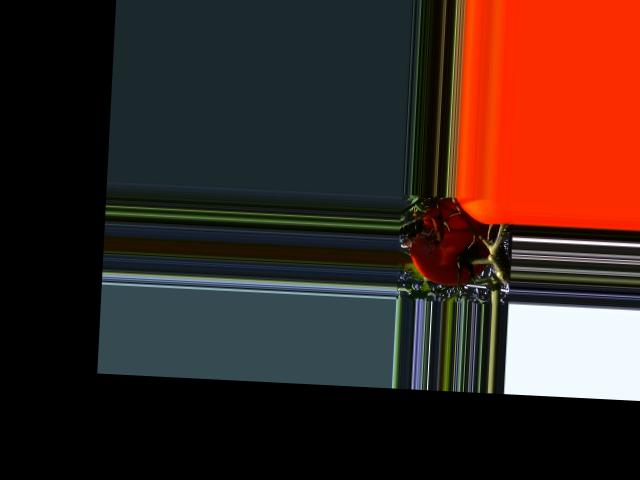tomato: (406, 196, 492, 287)
